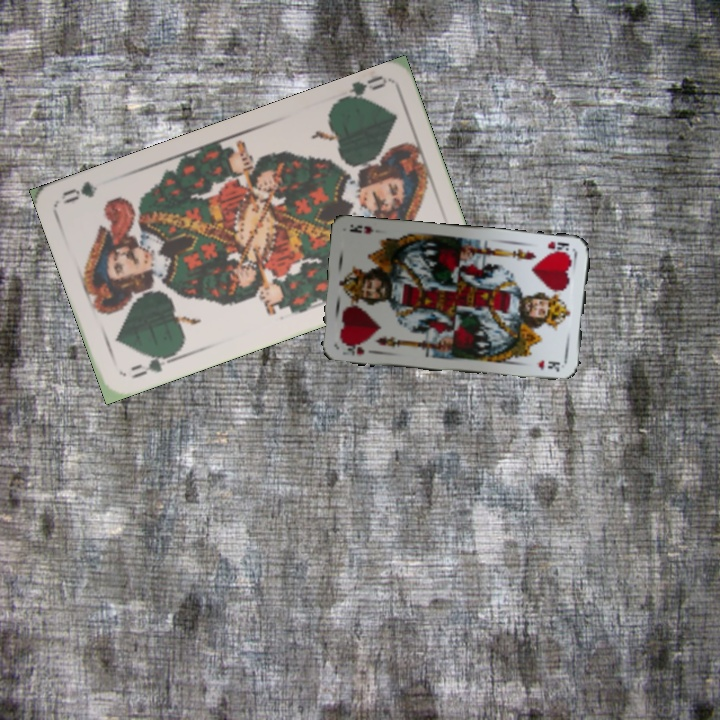GO: (332, 71, 388, 106), (126, 350, 179, 381)
HK: (336, 339, 367, 359), (544, 237, 574, 257)
